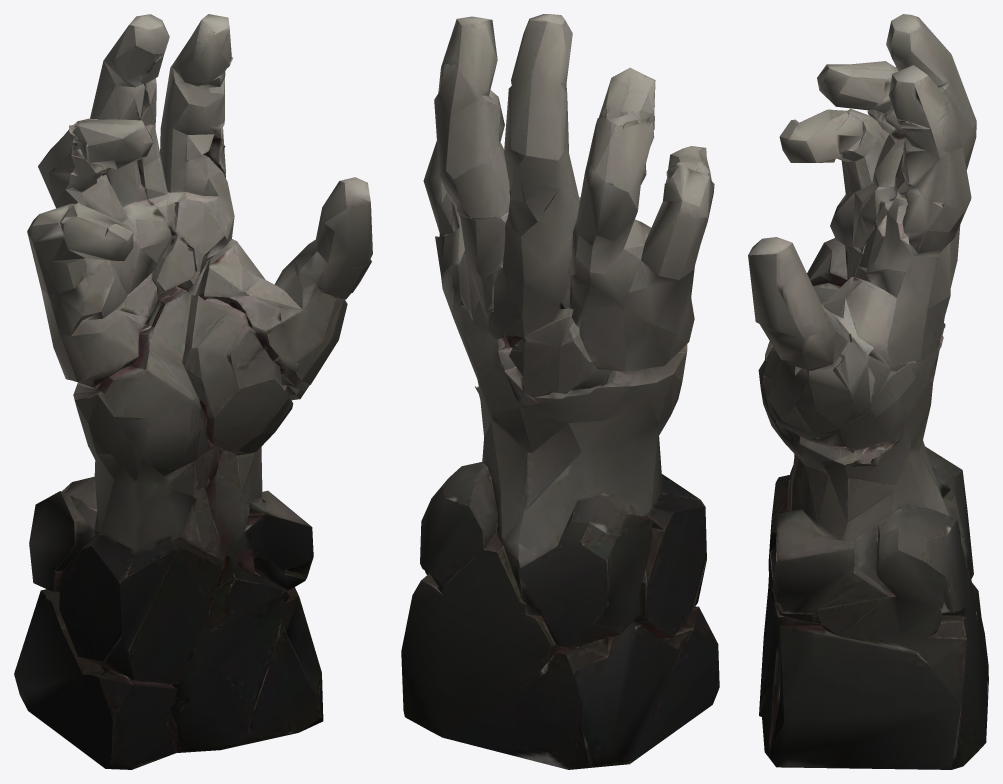
The model's file is hand.glb.
3 views of the same model, side by side, from view 1: azimuth 30°, elevation 25°; view 2: azimuth 150°, elevation 25°; view 3: azimuth 270°, elevation 25° (orthographic). The views are drawn at different scales.
Visible parts, largest first — view 1: mesh_node; view 2: mesh_node; view 3: mesh_node.
Part boxes in pixels (bbox=[...]): mesh_node: bbox=[14, 14, 372, 769]; mesh_node: bbox=[401, 14, 719, 769]; mesh_node: bbox=[748, 14, 988, 769].
Size of the model in its own units: 0.8723 by 1.9 by 0.5974.
Materials: 1 (1 with a texture image).
